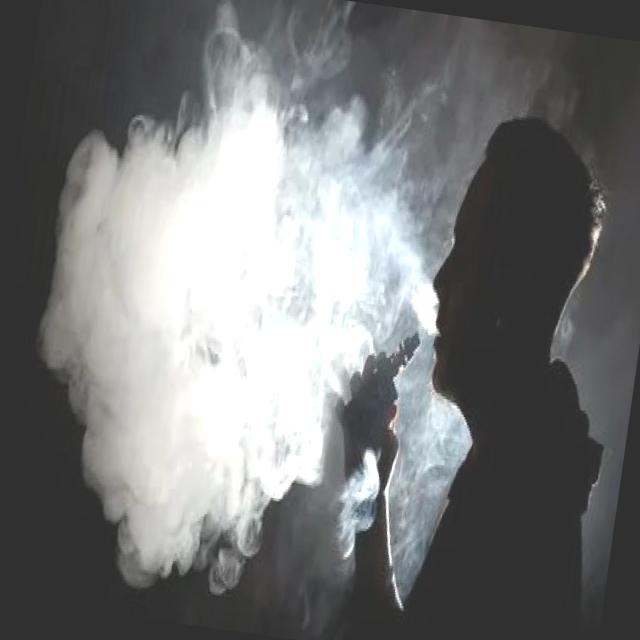smoke: (334, 320, 424, 462)
